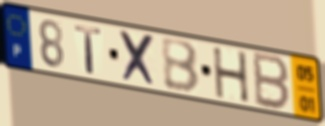8: (37, 18, 65, 70)
B: (159, 37, 201, 96), (252, 50, 291, 113)
H: (210, 46, 252, 105)
T: (72, 23, 104, 76)
X: (117, 28, 158, 90)
